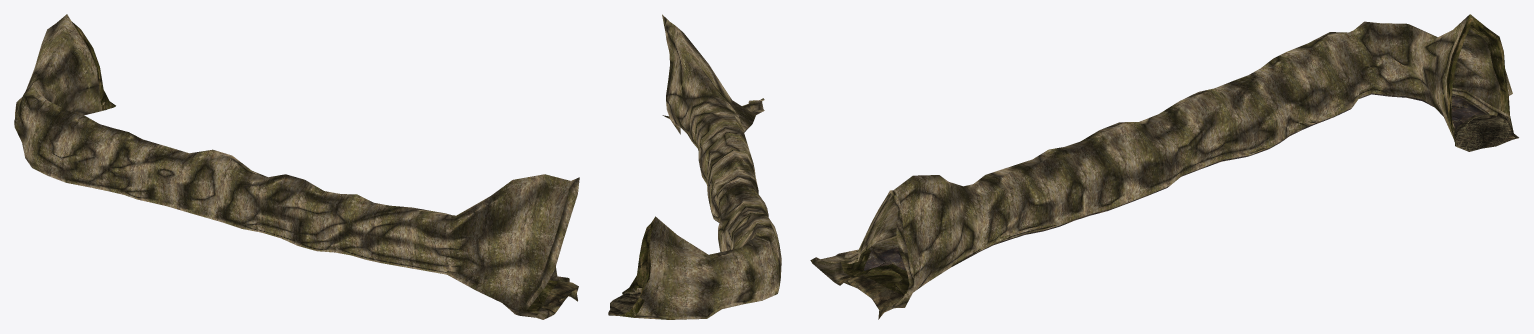
3 renders of one model, left to right at view 1: azimuth 30°, elevation 25°; view 2: azimuth 150°, elevation 25°; view 3: azimuth 270°, elevation 25°, orthographic. The views are drawn at different scales.
Visible parts, largest first — view 1: mesh5, mesh2, mesh4, mesh1; view 2: mesh5, mesh4, mesh3, mesh2; view 3: mesh5, mesh2, mesh4, mesh6, mesh3, mesh1, mesh0.
Boxes of the visible parts, x1,y1,x2,y2 form: mesh5: (14, 14, 570, 313); mesh2: (102, 102, 579, 319); mesh4: (71, 21, 541, 310); mesh1: (542, 281, 578, 313); mesh5: (634, 20, 781, 319); mesh4: (620, 113, 756, 317); mesh3: (608, 292, 640, 315); mesh2: (632, 14, 764, 292); mesh5: (844, 14, 1512, 308); mesh2: (810, 87, 1511, 319); mesh4: (846, 14, 1513, 294); mesh6: (860, 93, 1486, 275); mesh3: (1454, 112, 1518, 151); mesh1: (835, 275, 904, 318); mesh0: (841, 262, 904, 295).
Bounding box in the file's own units: 18.57 × 8.1 × 30.31.
